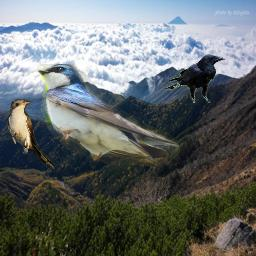Crow: (164, 54, 226, 103)
Cuckoo: (7, 99, 56, 170)
Swallow: (37, 64, 180, 170)
